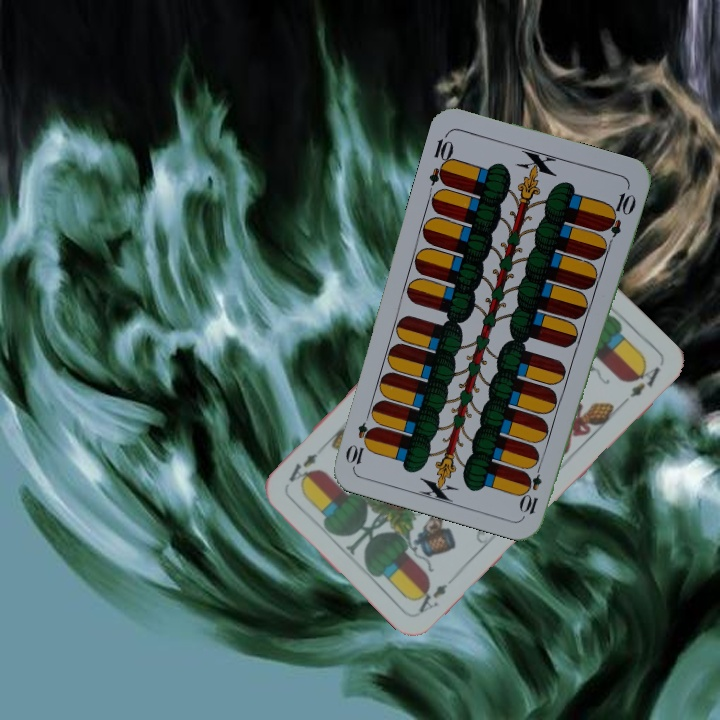E10: (425, 129, 456, 188), (518, 458, 545, 517)
EA: (410, 580, 450, 616)
